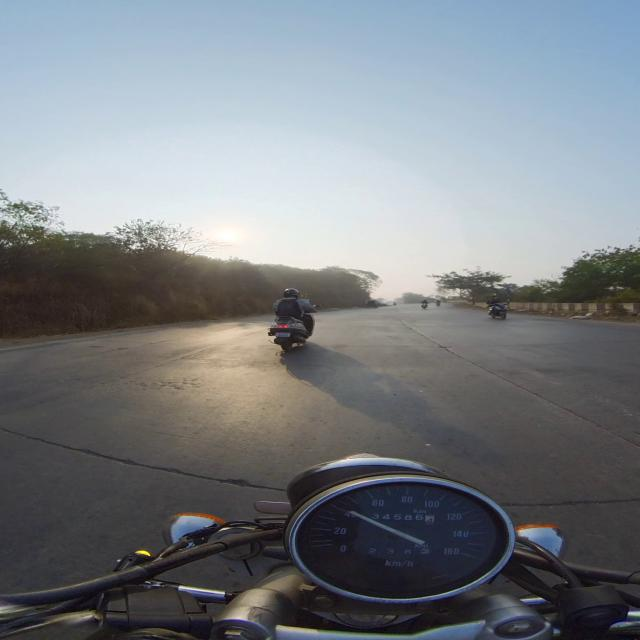motorcycle: (0, 455, 639, 639), (268, 317, 309, 351), (489, 303, 507, 319), (422, 303, 428, 309)
